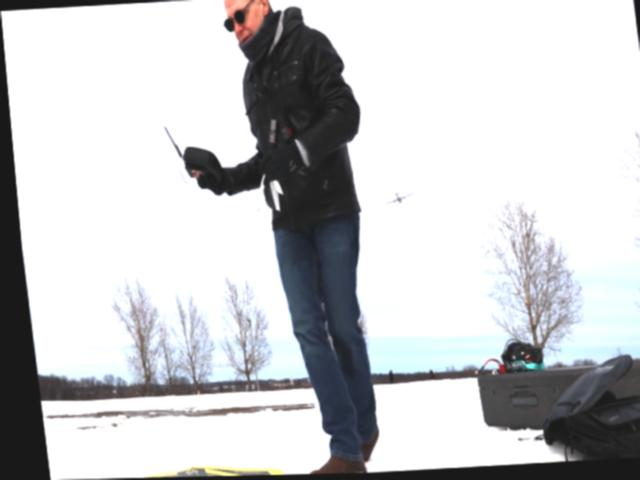plane: (380, 189, 411, 208)
